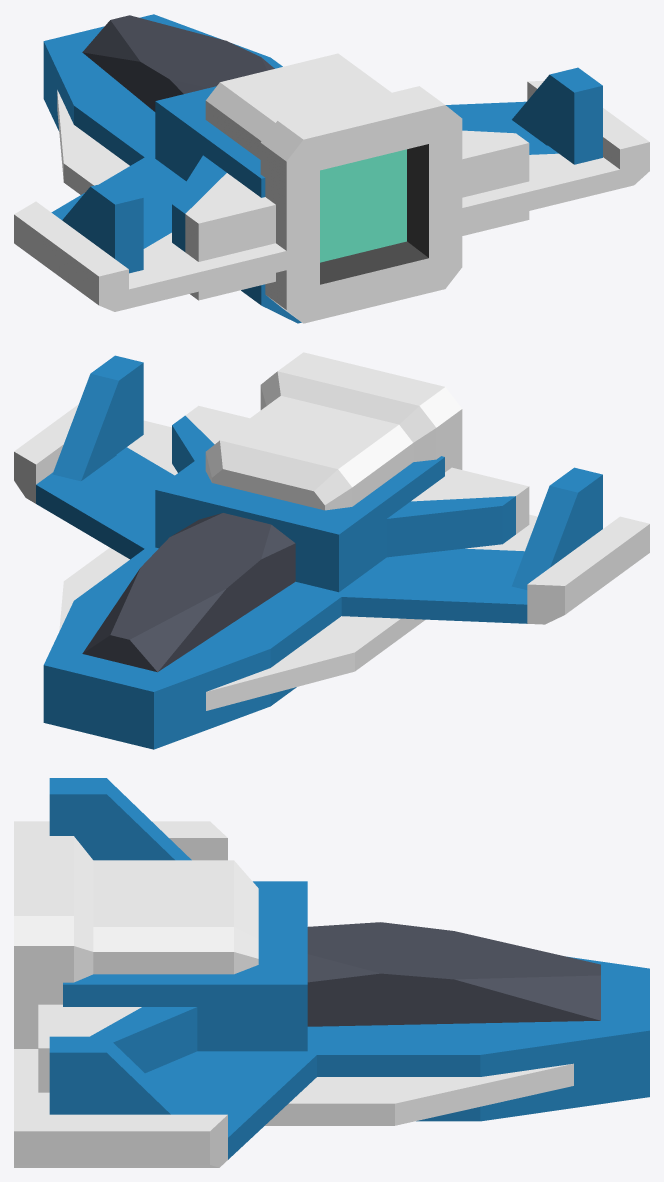
Rendered from Spaceship.fbx.
3 views of the same model, one above another, from view 1: azimuth 30°, elevation 25°; view 2: azimuth 150°, elevation 25°; view 3: azimuth 270°, elevation 25° (orthographic). The views are drawn at different scales.
Visible parts, largest first — view 1: engine_large_47, wind_endLow_38, wind_endLow_39, glass_high_19, wing_endLong_40, plane_elevator_31, block_default_35, plane_rudder_43, wing_endLong_41, plane_rudder_42, plane_elevator_33, block_default_24 (+1 smaller); view 2: engine_large_47, glass_high_19, wind_endLow_38, block_default_35, wind_endLow_39, plane_elevator_31, block_default_24, wing_endLong_40, plane_elevator_33, plane_rudder_43, plane_rudder_42, plane_elevator_32 (+2 smaller); view 3: engine_large_47, glass_high_19, wind_endLow_39, plane_elevator_32, block_default_35, plane_elevator_34, plane_rudder_43, wing_endLong_41, plane_rudder_42, block_default_24, wind_endLow_38.
Boxes of the visible parts, left/top/right/bottom form: engine_large_47: left=205, top=53, right=462, bottom=323; wind_endLow_38: left=14, top=151, right=300, bottom=311; wind_endLow_39: left=446, top=80, right=649, bottom=230; glass_high_19: left=82, top=15, right=274, bottom=111; wing_endLong_40: left=172, top=155, right=275, bottom=300; plane_elevator_31: left=43, top=41, right=155, bottom=165; block_default_35: left=155, top=86, right=265, bottom=293; plane_rudder_43: left=512, top=67, right=602, bottom=164; wing_endLong_41: left=462, top=119, right=529, bottom=235; plane_rudder_42: left=62, top=179, right=143, bottom=273; plane_elevator_33: left=57, top=90, right=129, bottom=194; block_default_24: left=44, top=14, right=168, bottom=122; engine_large_47: left=205, top=352, right=462, bottom=510; glass_high_19: left=82, top=513, right=295, bottom=672; wind_endLow_38: left=339, top=514, right=649, bottom=624; block_default_35: left=155, top=453, right=444, bottom=592; wind_endLow_39: left=14, top=404, right=177, bottom=559; plane_elevator_31: left=154, top=583, right=344, bottom=749; block_default_24: left=43, top=581, right=301, bottom=749; wing_endLong_40: left=386, top=467, right=529, bottom=557; plane_elevator_33: left=206, top=616, right=425, bottom=710; plane_rudder_43: left=52, top=355, right=143, bottom=481; plane_rudder_42: left=511, top=467, right=602, bottom=589; plane_elevator_32: left=44, top=546, right=157, bottom=664; engine_large_47: left=14, top=836, right=258, bottom=1048; glass_high_19: left=307, top=922, right=600, bottom=1026; wind_endLow_39: left=14, top=1041, right=331, bottom=1167; plane_elevator_32: left=307, top=1030, right=649, bottom=1121; block_default_35: left=63, top=881, right=307, bottom=1051; plane_elevator_34: left=265, top=1063, right=573, bottom=1125; plane_rudder_43: left=49, top=1036, right=187, bottom=1114; wing_endLong_41: left=38, top=1004, right=197, bottom=1092; plane_rudder_42: left=49, top=778, right=191, bottom=860; block_default_24: left=307, top=968, right=649, bottom=1030; wind_endLow_38: left=14, top=821, right=227, bottom=860.
Size of the model in its own units: 30 by 10.58 by 26.
